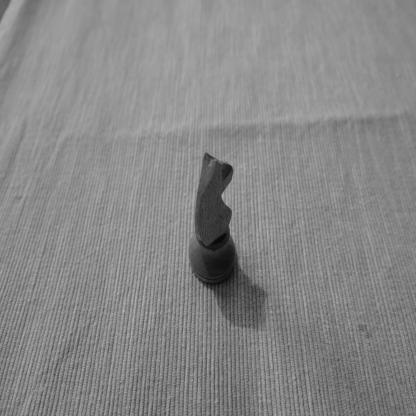white-knight: (188, 152, 236, 285)
